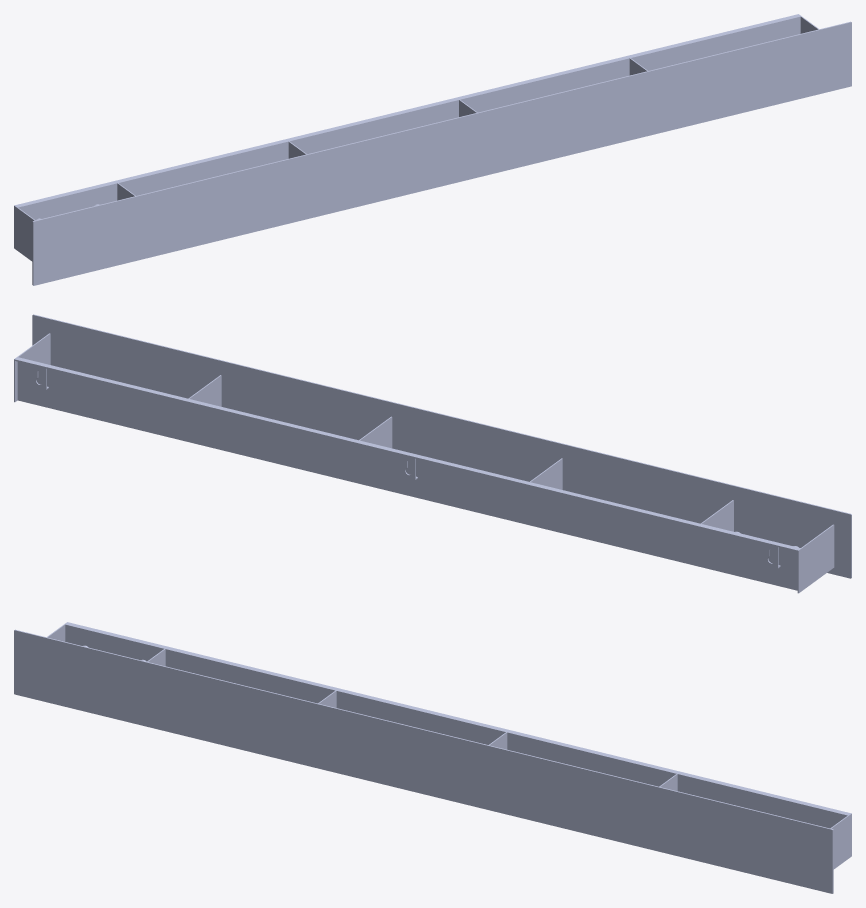
File: skyline-patron.7c9f0c8bb1.glb
3 views of the same model, one above another, from view 1: azimuth 30°, elevation 25°; view 2: azimuth 150°, elevation 25°; view 3: azimuth 330°, elevation 25° (orthographic).
Parts seen in each view (by area): view 1: NAUO1; view 2: NAUO1; view 3: NAUO1.
Boxes of the visible parts, box(x1,y1,x2,y2) form: NAUO1: box(14, 14, 851, 285); NAUO1: box(14, 314, 851, 593); NAUO1: box(14, 622, 851, 893).
Bounding box in the file's own units: 1.2 × 0.0899 × 0.092.
